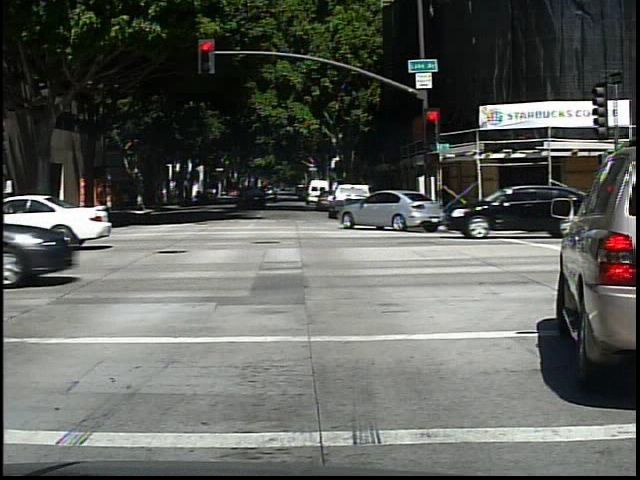person: (93, 186, 109, 221)
